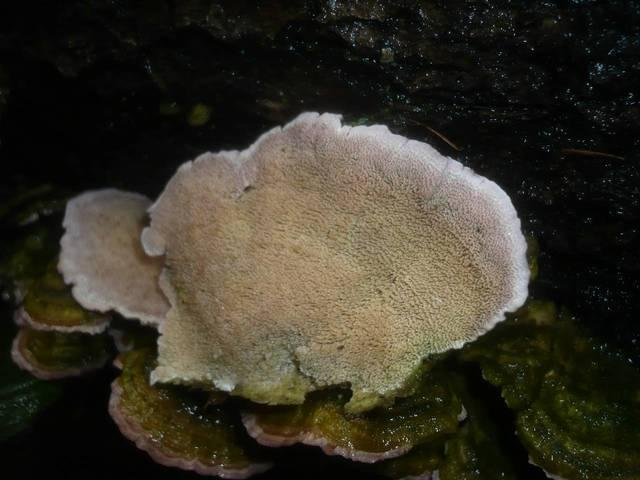Non-edible Mushroom: (8, 84, 640, 479)
